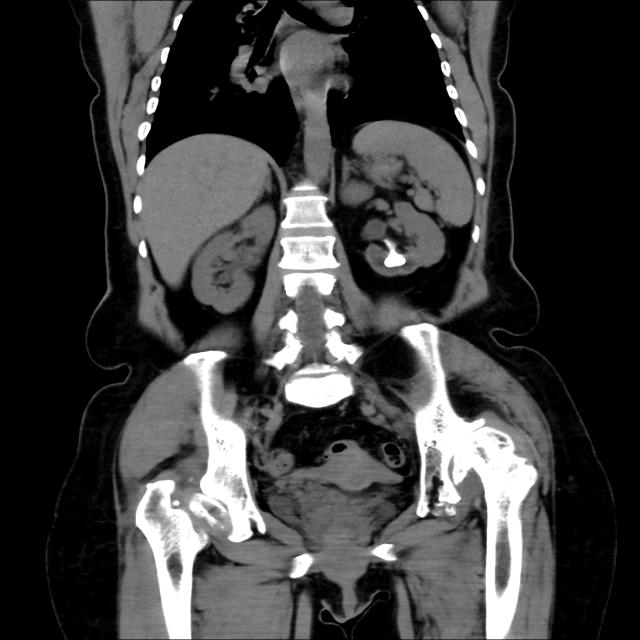kidneystone: (385, 249, 407, 268)
